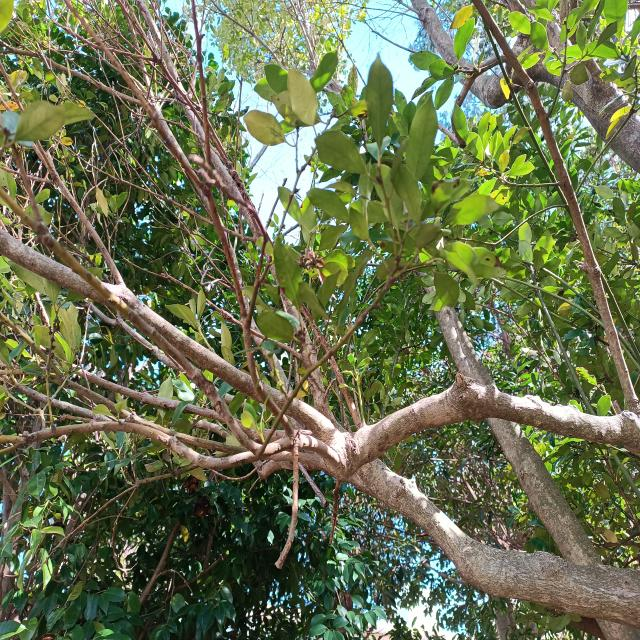Branch: (346, 454, 640, 626), (411, 0, 640, 175), (320, 376, 637, 475)
Twig: (0, 187, 337, 470), (0, 231, 338, 433), (472, 0, 638, 402), (138, 52, 293, 431), (0, 309, 333, 472), (0, 418, 263, 471), (74, 365, 224, 419), (276, 449, 298, 570)
